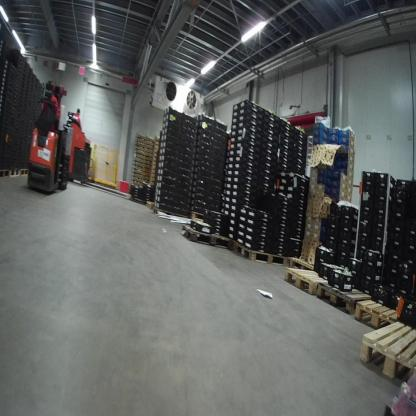pallet: (358, 310, 415, 391), (316, 279, 380, 319), (229, 236, 294, 269), (353, 294, 405, 335), (282, 265, 335, 301), (178, 224, 234, 249), (290, 252, 322, 276), (152, 205, 188, 224), (9, 165, 23, 178), (189, 210, 208, 219), (19, 166, 32, 179), (0, 166, 10, 179), (145, 199, 155, 208)
pallet_truck: (28, 74, 77, 201), (66, 105, 110, 191)
